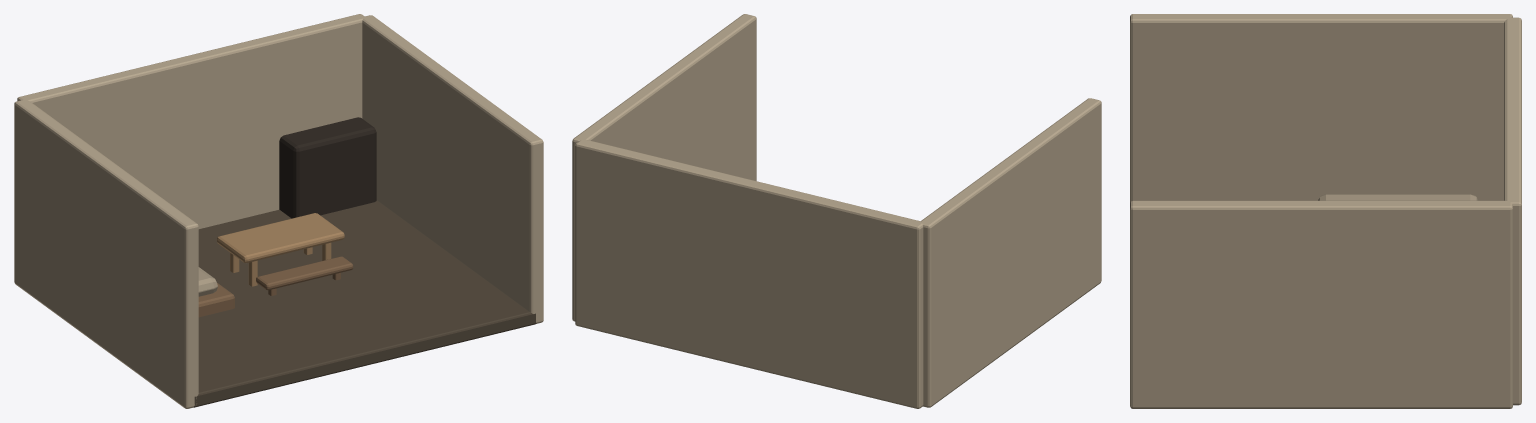
Rendered from house_interior.glb.
3 views of the same model, side by side, from view 1: azimuth 30°, elevation 25°; view 2: azimuth 150°, elevation 25°; view 3: azimuth 270°, elevation 25° (orthographic). The views are drawn at different scales.
Parts seen in each view (by area): view 1: BedFrame; view 2: BedFrame; view 3: BedFrame.
Boxes of the visible parts, x1,y1,x2,y2 form: BedFrame: [14, 14, 543, 408]; BedFrame: [572, 14, 1101, 408]; BedFrame: [1130, 14, 1521, 408].
Size of the model in its own units: 7.8 by 3.8 by 6.65.
Materials: 1 (1 with a texture image).
